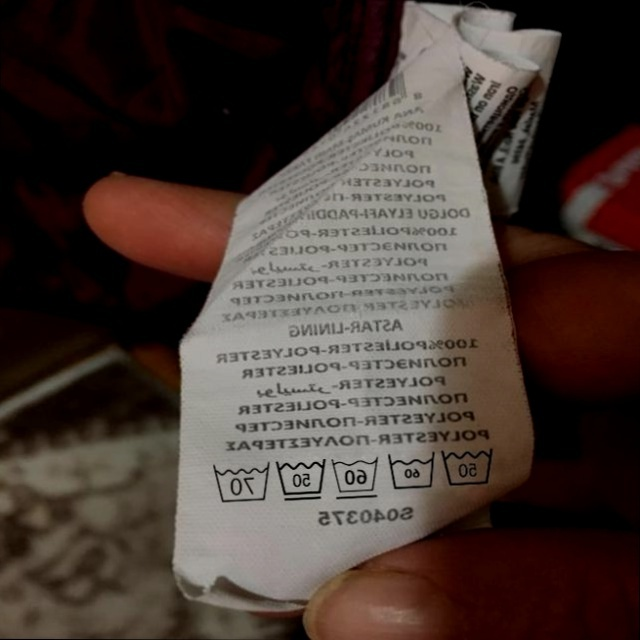50C: (437, 440, 500, 491), (272, 455, 329, 504)
60C: (327, 452, 381, 500), (383, 448, 438, 494)
70C: (206, 460, 270, 505)
